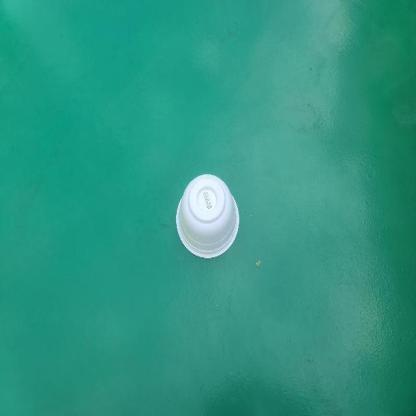Glass Cup: (176, 175, 239, 258), (177, 174, 239, 258)
